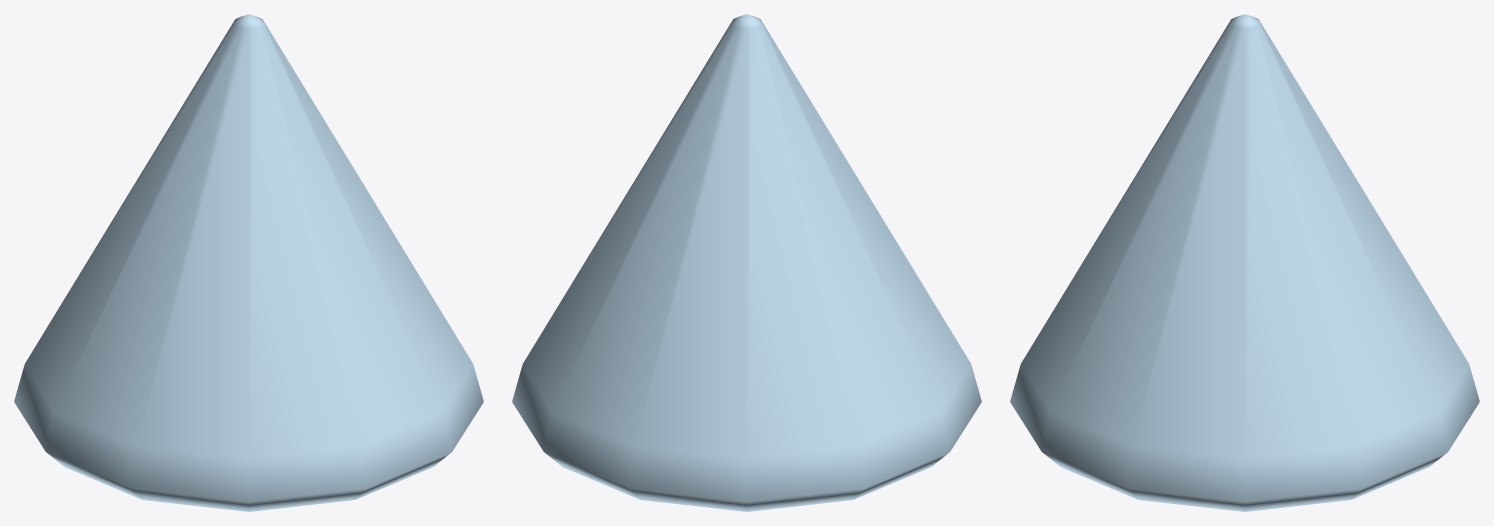
The picture shows the model from 3 angles, left to right: view 1: azimuth 30°, elevation 25°; view 2: azimuth 150°, elevation 25°; view 3: azimuth 270°, elevation 25°; orthographic projection.
Visible parts, largest first — view 1: R4B_Cone_LOD1; view 2: R4B_Cone_LOD1; view 3: R4B_Cone_LOD1.
Part boxes in pixels (x1,y1,x2,y2): R4B_Cone_LOD1: (14,14,483,511); R4B_Cone_LOD1: (512,14,981,511); R4B_Cone_LOD1: (1010,14,1479,511).
Size of the model in its own units: 0.52 by 0.4987 by 0.52.
